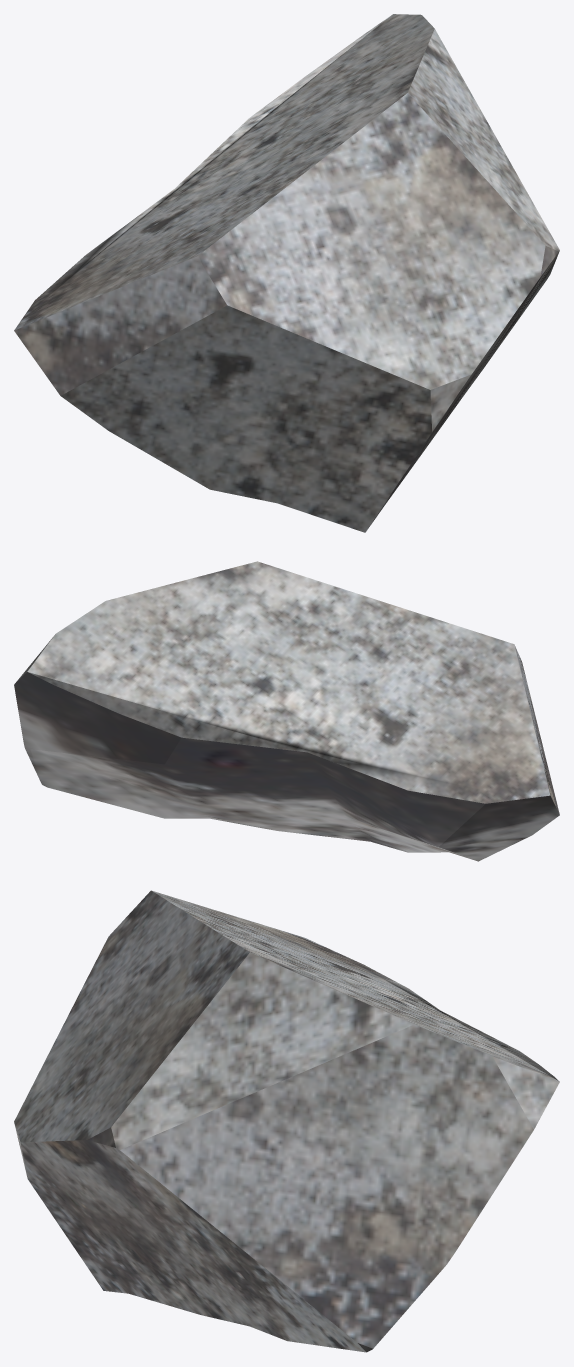
File: Asteroid_Large_001_02_003_03_011.fbx
3 renders of one model, top to bottom at view 1: azimuth 30°, elevation 25°; view 2: azimuth 150°, elevation 25°; view 3: azimuth 270°, elevation 25°, orthographic. The views are drawn at different scales.
Visible parts, largest first — view 1: Asteroid_Large_001_02_003_03_011; view 2: Asteroid_Large_001_02_003_03_011; view 3: Asteroid_Large_001_02_003_03_011.
Part boxes in pixels (x1,y1,x2,y2): Asteroid_Large_001_02_003_03_011: (14, 14, 559, 532); Asteroid_Large_001_02_003_03_011: (14, 561, 559, 861); Asteroid_Large_001_02_003_03_011: (14, 890, 559, 1352).
Size of the model in its own units: 9.46 by 5.83 by 7.27.
